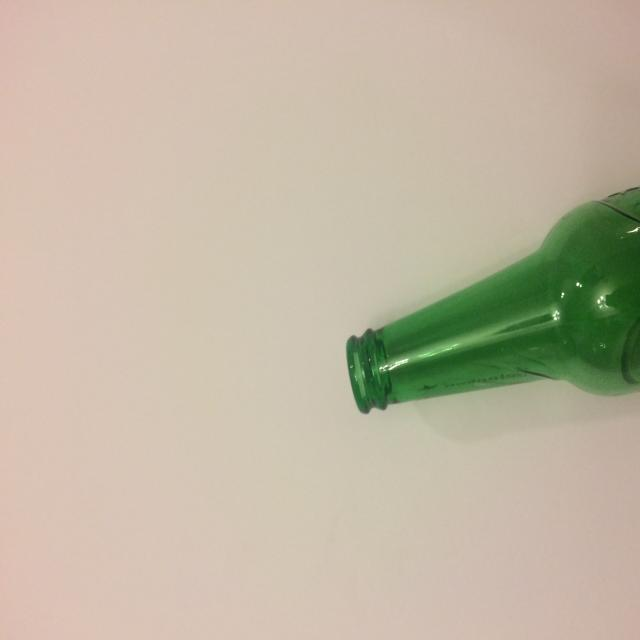glass: (345, 174, 640, 414)
